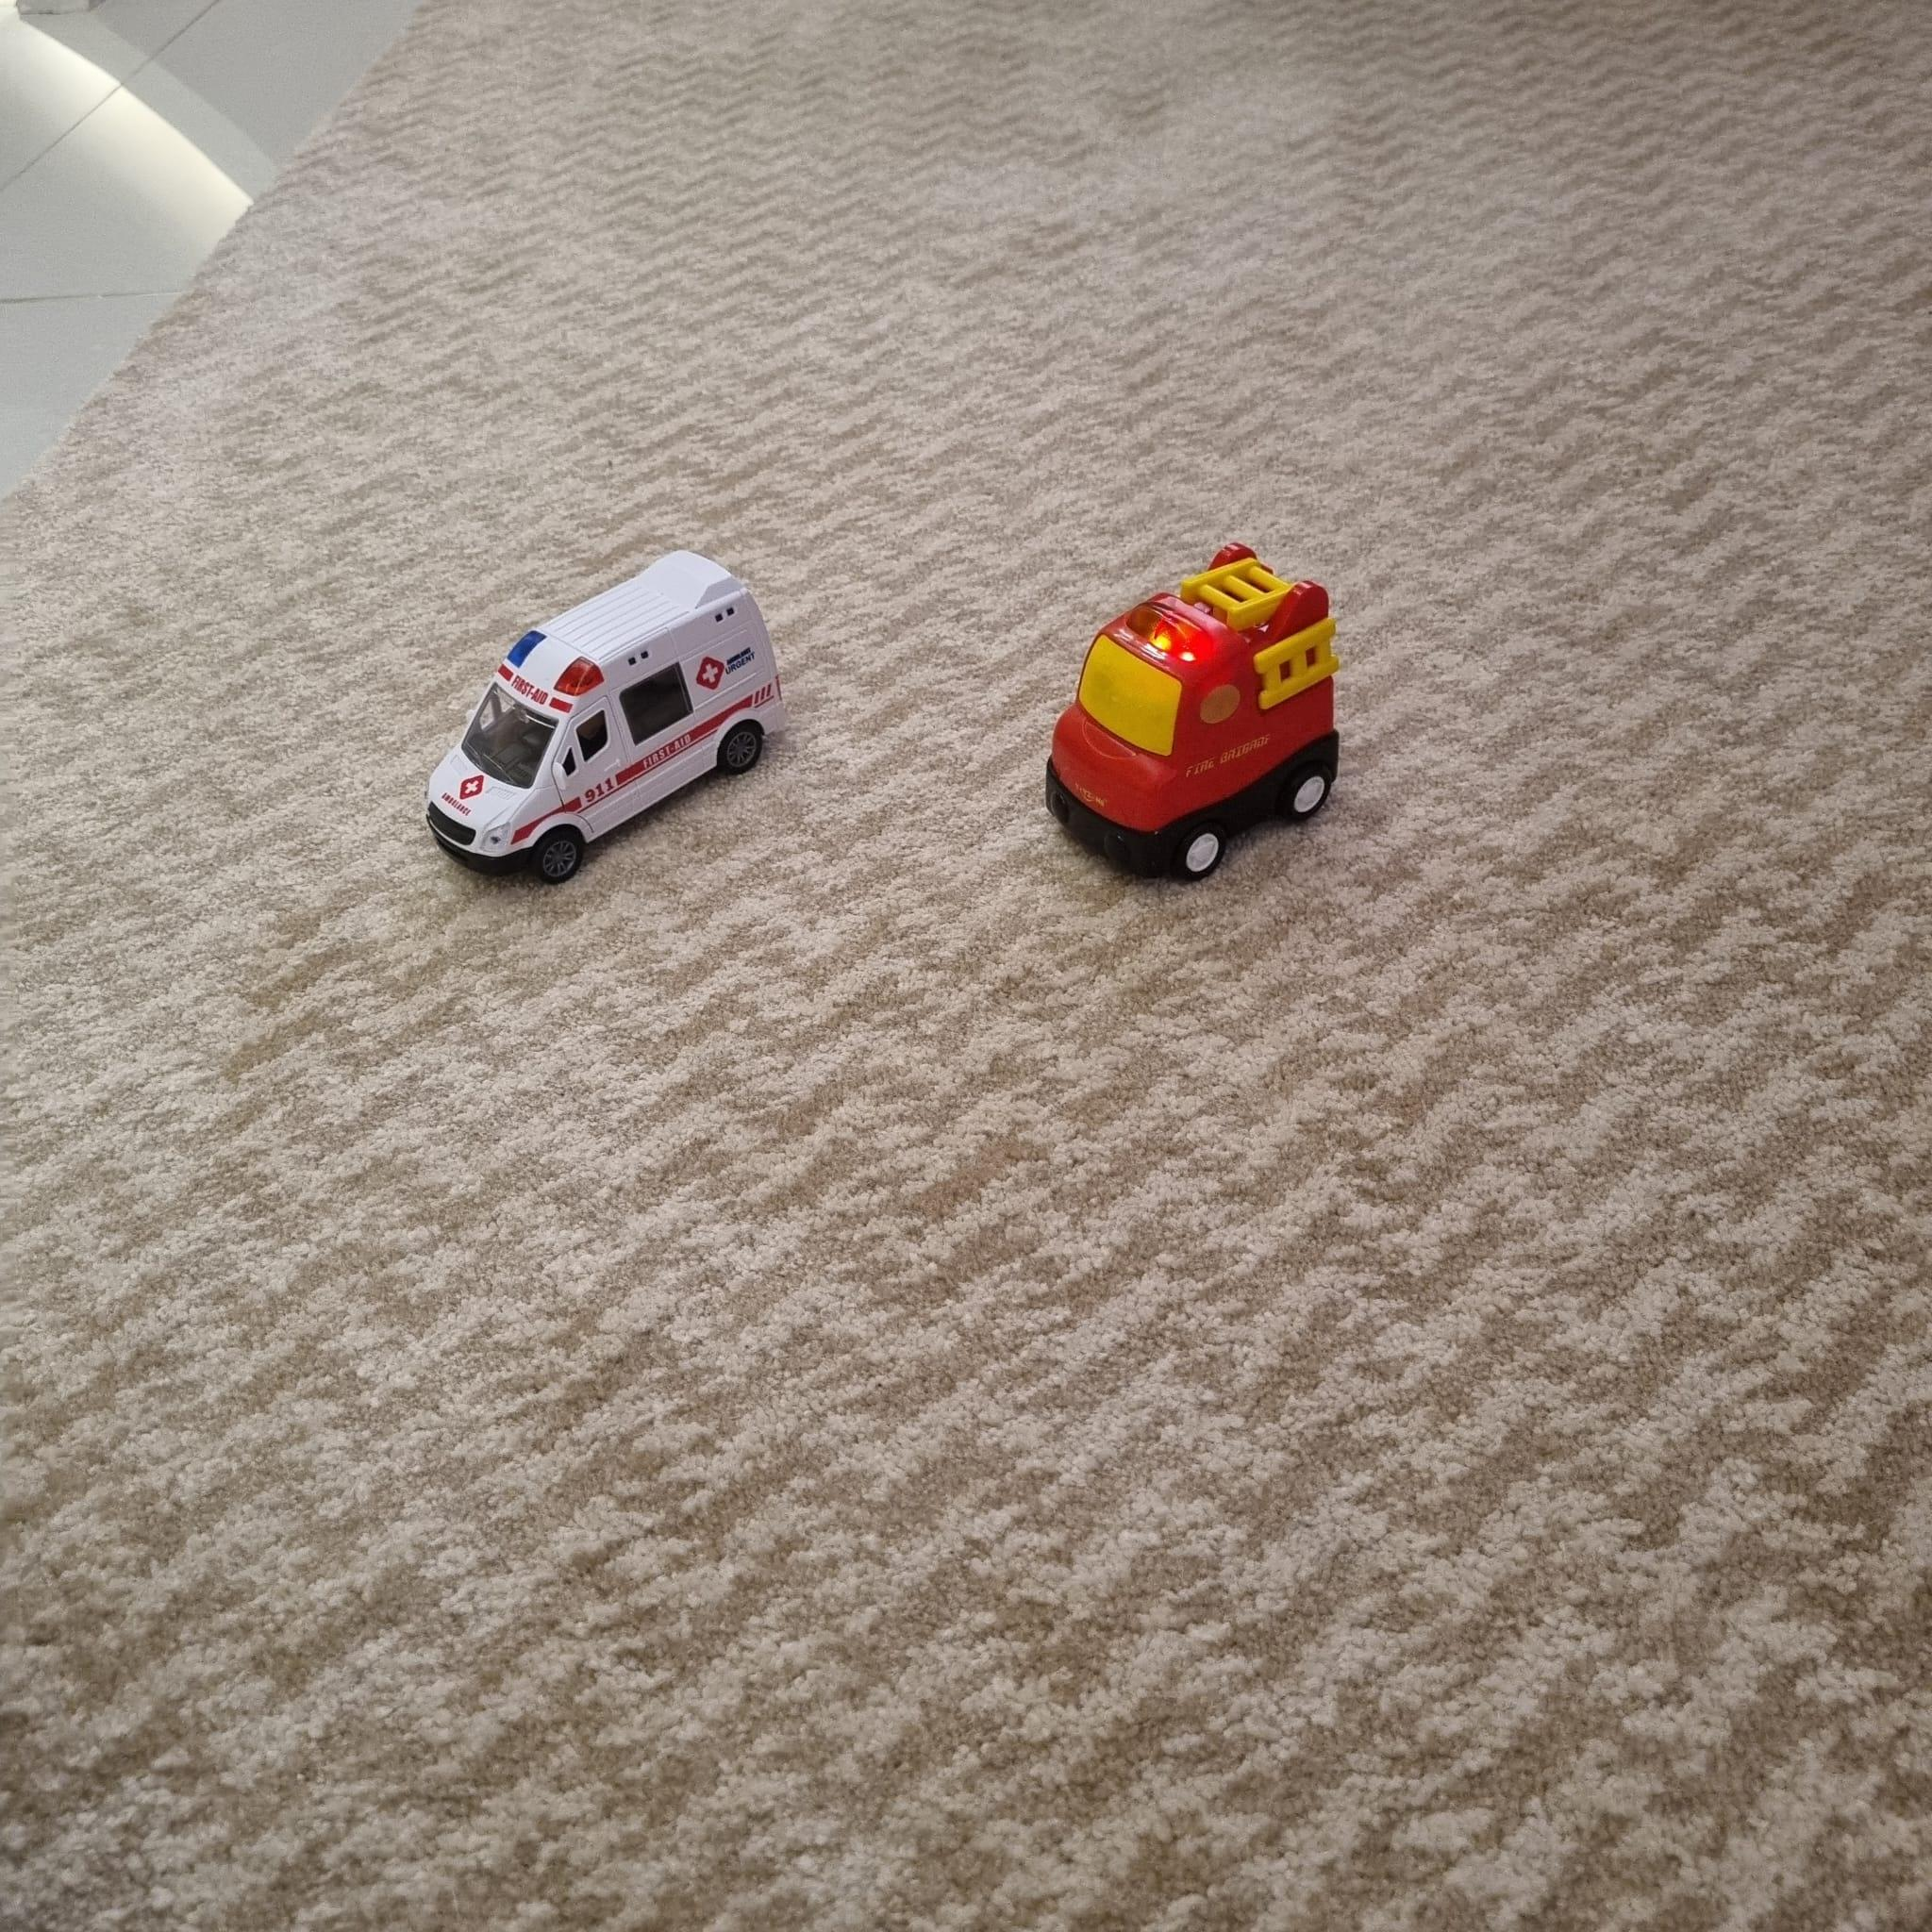ambulance_off: (430, 534, 793, 892)
firetruck_on: (1053, 538, 1343, 888)
